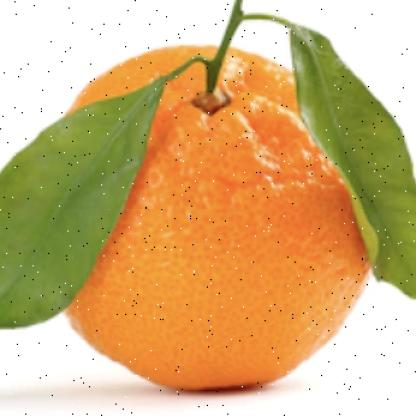fresh: (46, 43, 371, 393)
